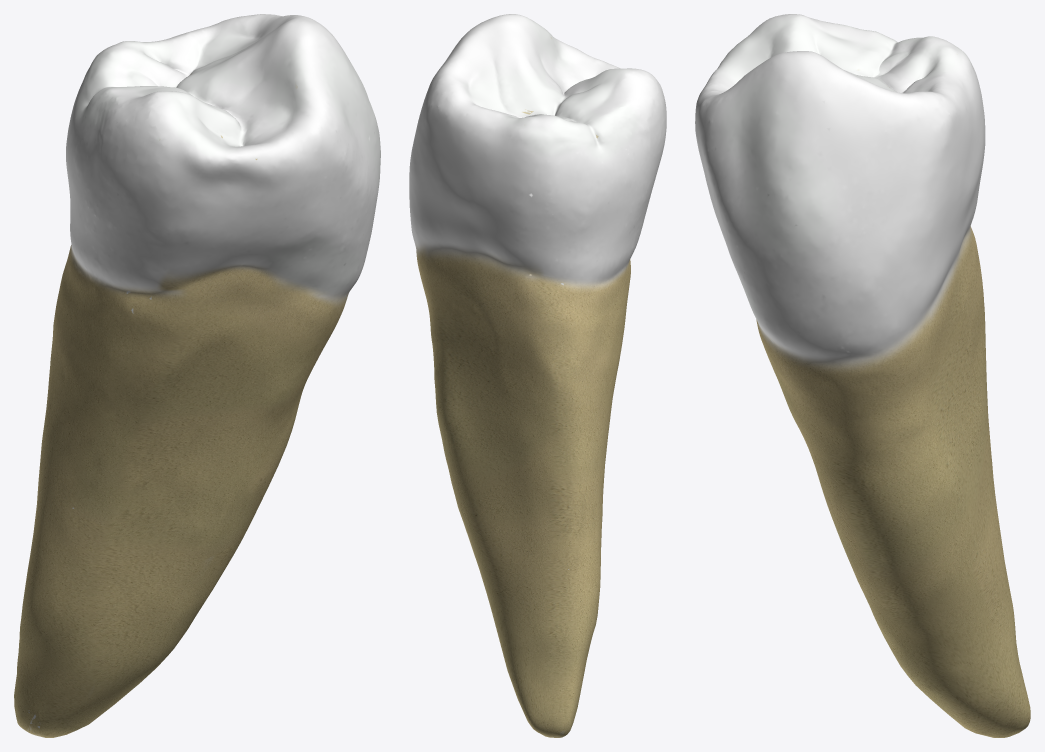
The model's file is 2nd premolar .fbx.
3 renders of one model, left to right at view 1: azimuth 30°, elevation 25°; view 2: azimuth 150°, elevation 25°; view 3: azimuth 270°, elevation 25°, orthographic. The views are drawn at different scales.
Parts seen in each view (by area): view 1: 20; view 2: 20; view 3: 20.
Part boxes in pixels (left/top/right/bottom): 20: left=14, top=14, right=380, bottom=737; 20: left=409, top=14, right=666, bottom=737; 20: left=695, top=14, right=1030, bottom=737.
Bounding box in the file's own units: 0.6544 × 1.73 × 0.6955.
Materials: 2 (1 with a texture image).
